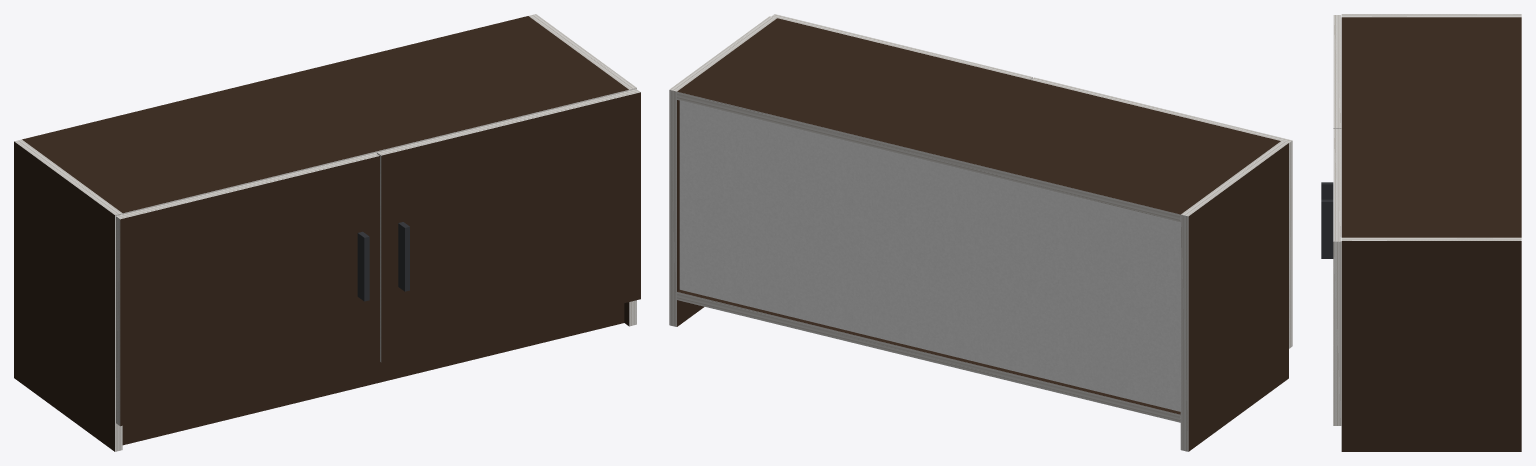
File: BIB-MED-short.glb
3 views of the same model, side by side, from view 1: azimuth 30°, elevation 25°; view 2: azimuth 150°, elevation 25°; view 3: azimuth 270°, elevation 25° (orthographic). The views are drawn at different scales.
Parts seen in each view (by area): view 1: door-r:pbr, door-l:pbr, top:pbr, side-l:pbr, plinth:pbr, pull, door-l:sheet:eyJtIjoicGx5Iiwic2lkZSI6ImVkZ2UtbG9uZyIsInNlZWQ, door-r:sheet:eyJtIjoicGx5Iiwic2lkZSI6ImVkZ2UtbG9uZyIsInNlZWQ, door-l:sheet:eyJtIjoicGx5Iiwic2lkZSI6ImVkZ2UtZW5kIiwic2VlZCI, top:sheet:eyJtIjoicGx5Iiwic2lkZSI6ImVkZ2UtbG9uZyIsInNlZWQiOj, side-l:sheet:eyJtIjoicGx5Iiwic2lkZSI6ImVkZ2UtZW5kIiwic2VlZCI, side-r:sheet:eyJtIjoicGx5Iiwic2lkZSI6ImVkZ2UtZW5kIiwic2VlZCI; view 2: back:sheet:eyJtIjoibWRmIiwic2lkZSI6ImZhY2UiLCJzZWVkIjoxLCJ0a, top:pbr, side-l:pbr, top:sheet:eyJtIjoicGx5Iiwic2lkZSI6ImVkZ2UtbG9uZyIsInNlZWQiOj, bottom:sheet:eyJtIjoicGx5Iiwic2lkZSI6ImVkZ2UtbG9uZyIsInNlZWQ, side-l:sheet:eyJtIjoicGx5Iiwic2lkZSI6ImVkZ2UtbG9uZyIsInNlZWQ, side-r:sheet:eyJtIjoicGx5Iiwic2lkZSI6ImVkZ2UtbG9uZyIsInNlZWQ, bottom:pbr, door-r:sheet:eyJtIjoicGx5Iiwic2lkZSI6ImVkZ2UtbG9uZyIsInNlZWQ, door-l:sheet:eyJtIjoicGx5Iiwic2lkZSI6ImVkZ2UtbG9uZyIsInNlZWQ, side-r:pbr, side-l:sheet:eyJtIjoicGx5Iiwic2lkZSI6ImVkZ2UtZW5kIiwic2VlZCI (+2 smaller); view 3: top:pbr, side-r:pbr, door-r:sheet:eyJtIjoicGx5Iiwic2lkZSI6ImVkZ2UtZW5kIiwic2VlZCI, door-r:sheet:eyJtIjoicGx5Iiwic2lkZSI6ImVkZ2UtbG9uZyIsInNlZWQ, door-l:sheet:eyJtIjoicGx5Iiwic2lkZSI6ImVkZ2UtbG9uZyIsInNlZWQ, pull, side-l:sheet:eyJtIjoicGx5Iiwic2lkZSI6ImVkZ2UtZW5kIiwic2VlZCI, side-r:sheet:eyJtIjoicGx5Iiwic2lkZSI6ImVkZ2UtZW5kIiwic2VlZCI.
Part boxes in pixels (x1,y1,x2,y2): door-r:pbr: (381, 92, 640, 362); door-l:pbr: (120, 156, 379, 425); top:pbr: (22, 16, 628, 213); side-l:pbr: (14, 141, 114, 451); plinth:pbr: (122, 303, 624, 445); pull: (357, 222, 409, 301); door-l:sheet:eyJtIjoicGx5Iiwic2lkZSI6ImVkZ2UtbG9uZyIsInNlZWQ: (116, 153, 379, 219); door-r:sheet:eyJtIjoicGx5Iiwic2lkZSI6ImVkZ2UtbG9uZyIsInNlZWQ: (377, 89, 640, 155); door-l:sheet:eyJtIjoicGx5Iiwic2lkZSI6ImVkZ2UtZW5kIiwic2VlZCI: (116, 216, 120, 425); top:sheet:eyJtIjoicGx5Iiwic2lkZSI6ImVkZ2UtbG9uZyIsInNlZWQiOj: (122, 90, 629, 214); side-l:sheet:eyJtIjoicGx5Iiwic2lkZSI6ImVkZ2UtZW5kIiwic2VlZCI: (14, 139, 122, 214); side-r:sheet:eyJtIjoicGx5Iiwic2lkZSI6ImVkZ2UtZW5kIiwic2VlZCI: (529, 14, 636, 89); back:sheet:eyJtIjoibWRmIiwic2lkZSI6ImZhY2UiLCJzZWVkIjoxLCJ0a: (679, 100, 1180, 411); top:pbr: (677, 18, 1280, 214); side-l:pbr: (1188, 143, 1288, 451); top:sheet:eyJtIjoicGx5Iiwic2lkZSI6ImVkZ2UtbG9uZyIsInNlZWQiOj: (677, 91, 1180, 222); bottom:sheet:eyJtIjoicGx5Iiwic2lkZSI6ImVkZ2UtbG9uZyIsInNlZWQ: (677, 292, 1180, 422); side-l:sheet:eyJtIjoicGx5Iiwic2lkZSI6ImVkZ2UtbG9uZyIsInNlZWQ: (1180, 214, 1188, 451); side-r:sheet:eyJtIjoicGx5Iiwic2lkZSI6ImVkZ2UtbG9uZyIsInNlZWQ: (669, 90, 676, 326); bottom:pbr: (677, 290, 1180, 414); door-r:sheet:eyJtIjoicGx5Iiwic2lkZSI6ImVkZ2UtbG9uZyIsInNlZWQ: (771, 14, 1032, 79); door-l:sheet:eyJtIjoicGx5Iiwic2lkZSI6ImVkZ2UtbG9uZyIsInNlZWQ: (1031, 77, 1292, 142); side-r:pbr: (677, 100, 704, 326); side-l:sheet:eyJtIjoicGx5Iiwic2lkZSI6ImVkZ2UtZW5kIiwic2VlZCI: (1181, 141, 1288, 216); top:pbr: (1341, 17, 1521, 237); side-r:pbr: (1341, 241, 1521, 451); door-r:sheet:eyJtIjoicGx5Iiwic2lkZSI6ImVkZ2UtZW5kIiwic2VlZCI: (1333, 241, 1341, 425); door-r:sheet:eyJtIjoicGx5Iiwic2lkZSI6ImVkZ2UtbG9uZyIsInNlZWQ: (1333, 128, 1341, 241); door-l:sheet:eyJtIjoicGx5Iiwic2lkZSI6ImVkZ2UtbG9uZyIsInNlZWQ: (1333, 15, 1341, 127); pull: (1321, 182, 1333, 258); side-l:sheet:eyJtIjoicGx5Iiwic2lkZSI6ImVkZ2UtZW5kIiwic2VlZCI: (1341, 14, 1521, 17); side-r:sheet:eyJtIjoicGx5Iiwic2lkZSI6ImVkZ2UtZW5kIiwic2VlZCI: (1341, 237, 1521, 240).
Bounding box in the file's own units: 1.2 × 0.52 × 0.4468.
34 materials, 23 textured.
